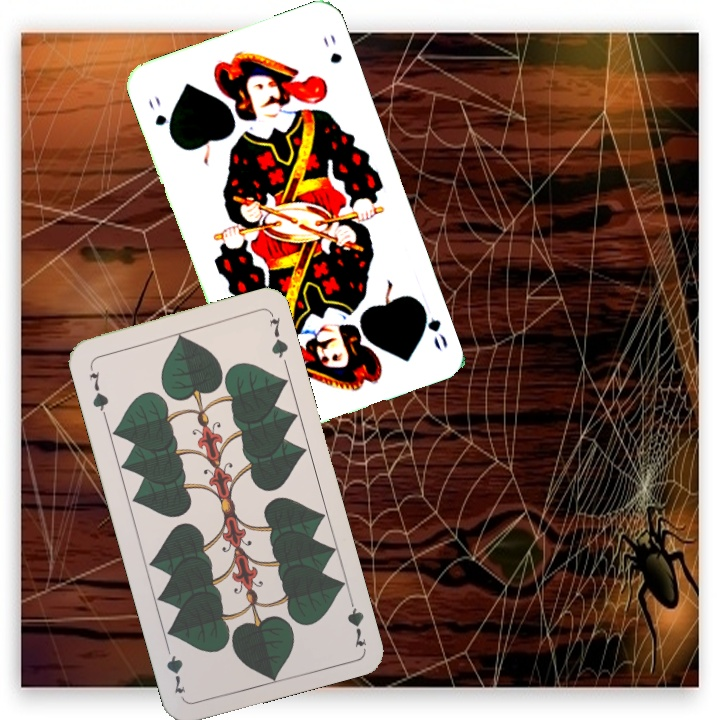G7: (343, 590, 370, 650), (85, 367, 112, 419)
GO: (415, 298, 451, 354), (144, 92, 176, 141)
